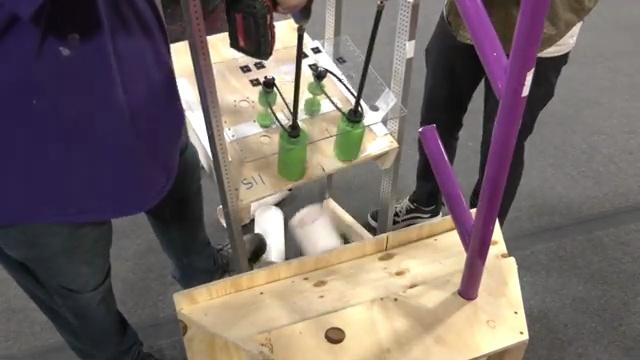CORAL: (290, 204, 345, 255), (254, 206, 286, 267)
